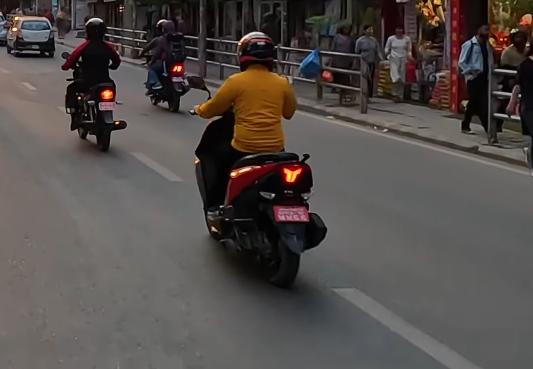bike: (60, 51, 130, 156), (135, 36, 191, 116)
scooter: (174, 72, 334, 284)
taxi: (8, 14, 58, 61)
